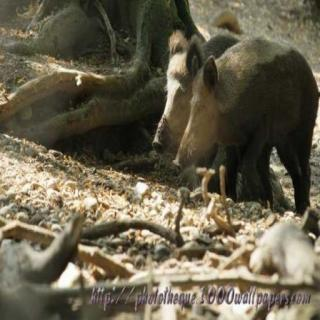Pig: (180, 48, 320, 198), (143, 25, 207, 158)
